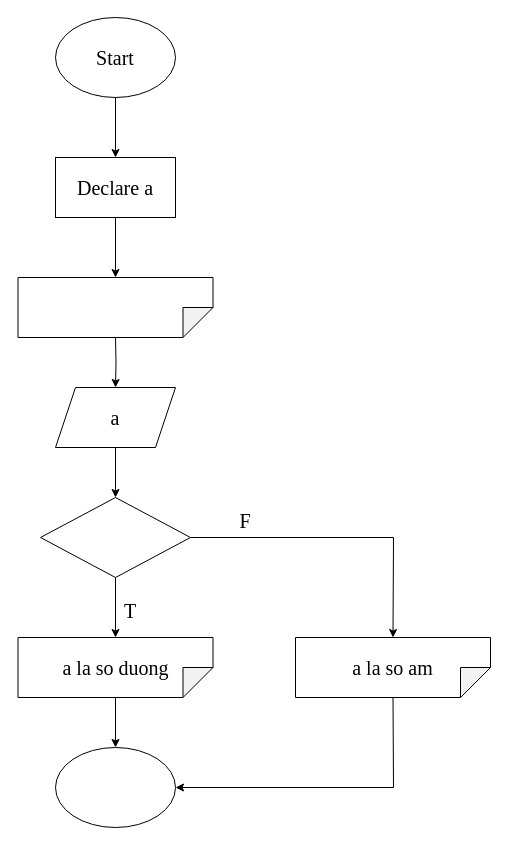
Some shapes in this 508 by 845 pixel diagram are drawn without their labels. The shapes that lost their labels are listed below. From the top down, each one's box as (x1, y1, x2, y2) in pixels, then its label:
(17, 276, 213, 338): a =
(40, 496, 190, 578): a > 0
(54, 746, 176, 828): End
